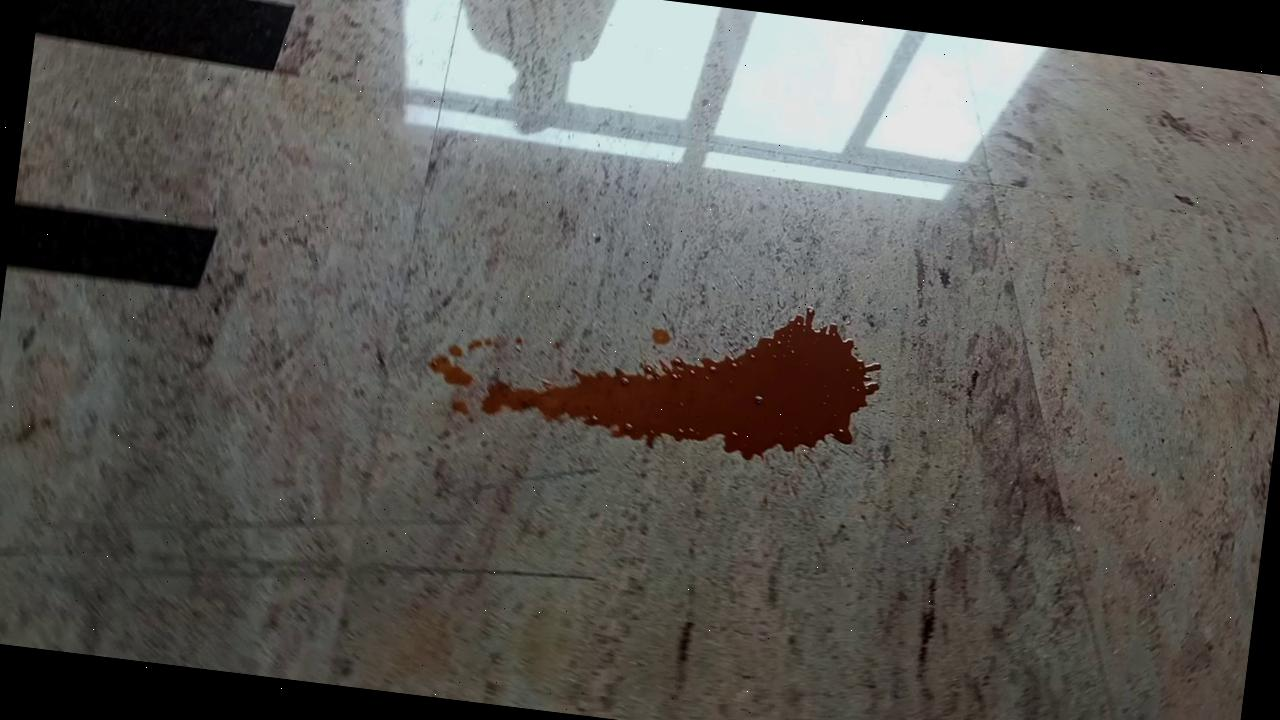dirty_floor: (419, 261, 887, 476)
